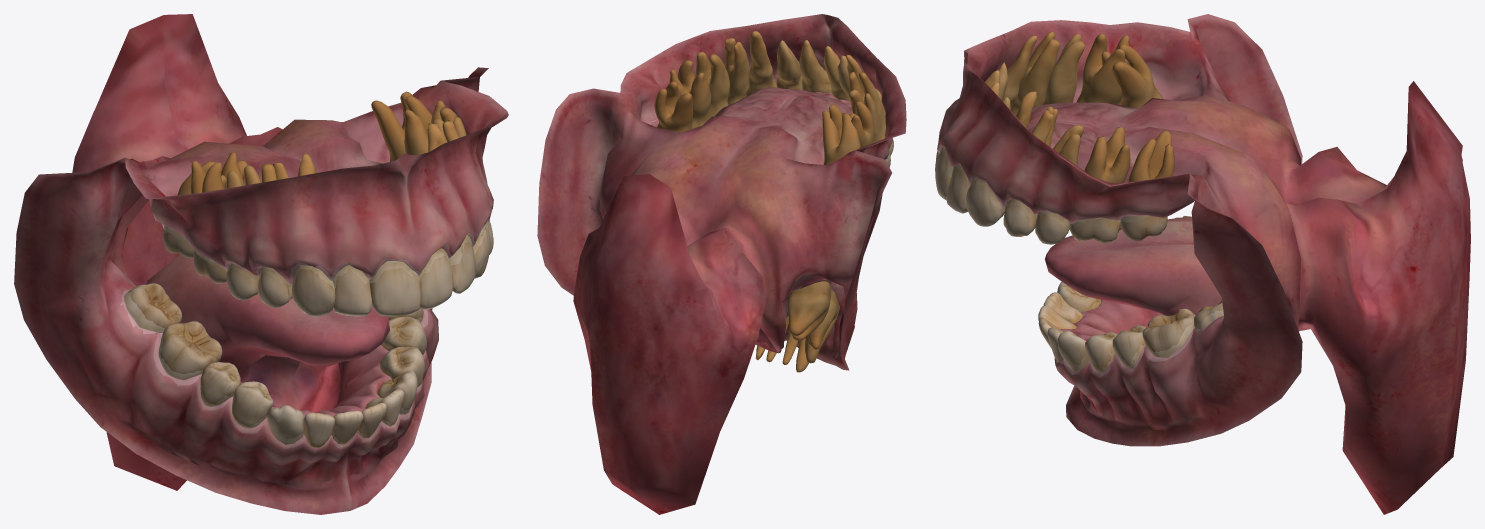
File: mouth.glb
The picture shows the model from 3 angles, left to right: view 1: azimuth 30°, elevation 25°; view 2: azimuth 150°, elevation 25°; view 3: azimuth 270°, elevation 25°; orthographic projection. The views are drawn at different scales.
Visible parts, largest first — view 1: Object_4, Object_6, Object_8; view 2: Object_4, Object_6; view 3: Object_4, Object_6, Object_8.
Part boxes in pixels (x1,y1,x2,y2): Object_4: [14, 14, 508, 514]; Object_6: [124, 91, 493, 447]; Object_8: [121, 219, 488, 448]; Object_4: [537, 14, 906, 514]; Object_6: [654, 31, 893, 372]; Object_4: [937, 14, 1470, 514]; Object_6: [935, 32, 1223, 372]; Object_8: [938, 91, 1223, 377].
Bounding box in the file's own units: 0.2433 × 0.2663 × 0.2801.
Materials: 3 (2 with a texture image).
